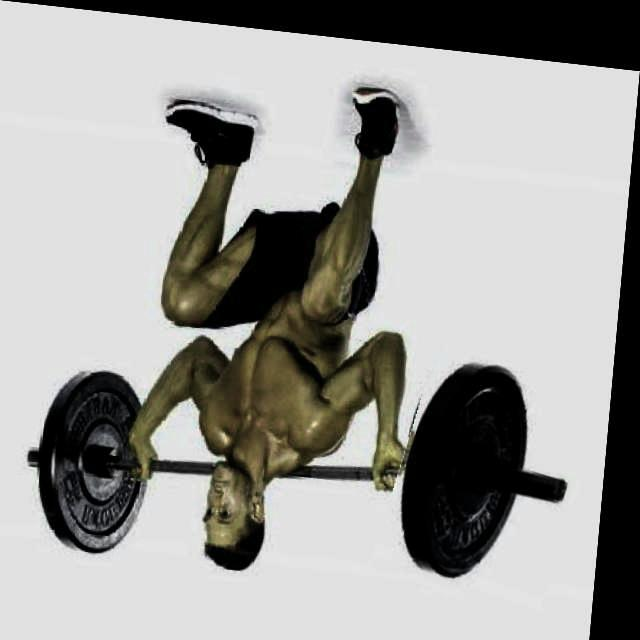barbell: (390, 335, 604, 604)
